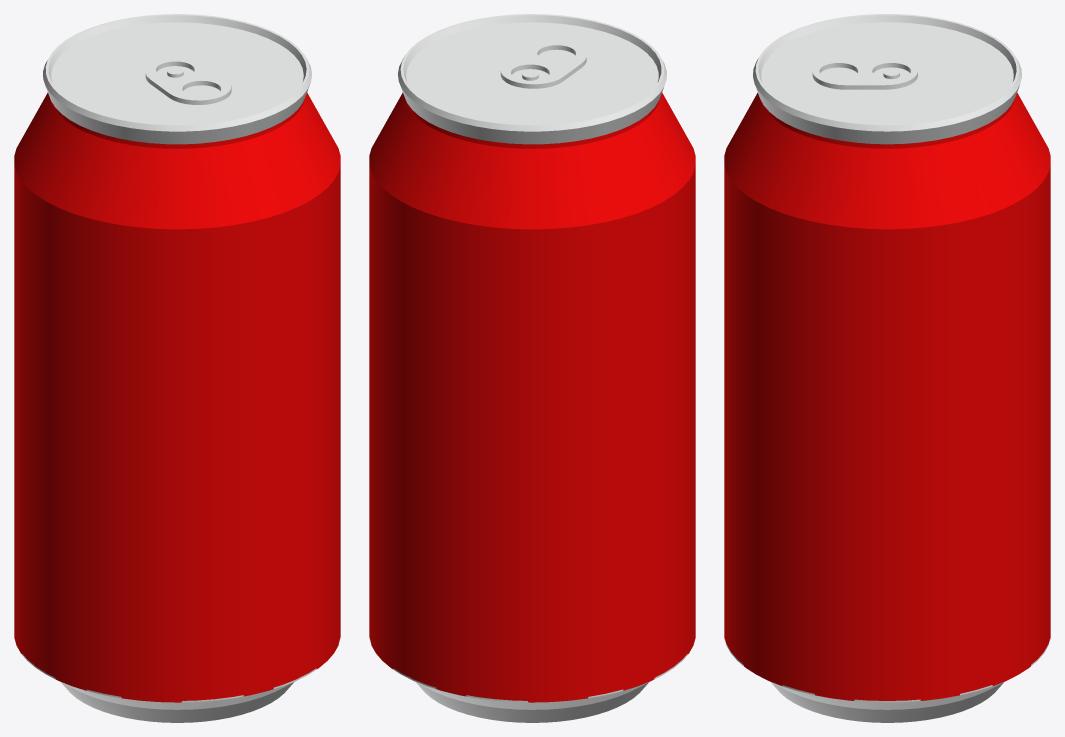
3 views of the same model, side by side, from view 1: azimuth 30°, elevation 25°; view 2: azimuth 150°, elevation 25°; view 3: azimuth 270°, elevation 25° (orthographic).
Visible parts, largest first — view 1: body, lid, bottom, tab; view 2: body, lid, bottom, tab; view 3: body, lid, bottom, tab.
Part boxes in pixels (bbox=[...]): body: bbox=[14, 92, 340, 702]; lid: bbox=[43, 14, 311, 144]; bottom: bbox=[22, 637, 340, 722]; tab: bbox=[145, 58, 231, 104]; body: bbox=[369, 92, 695, 702]; lid: bbox=[398, 14, 666, 144]; bottom: bbox=[369, 637, 687, 722]; tab: bbox=[500, 42, 586, 88]; body: bbox=[724, 93, 1050, 700]; lid: bbox=[753, 14, 1021, 144]; bottom: bbox=[725, 639, 1049, 722]; tab: bbox=[812, 57, 917, 89].
Bounding box in the file's own units: 0.0589 × 0.12 × 0.0588.
